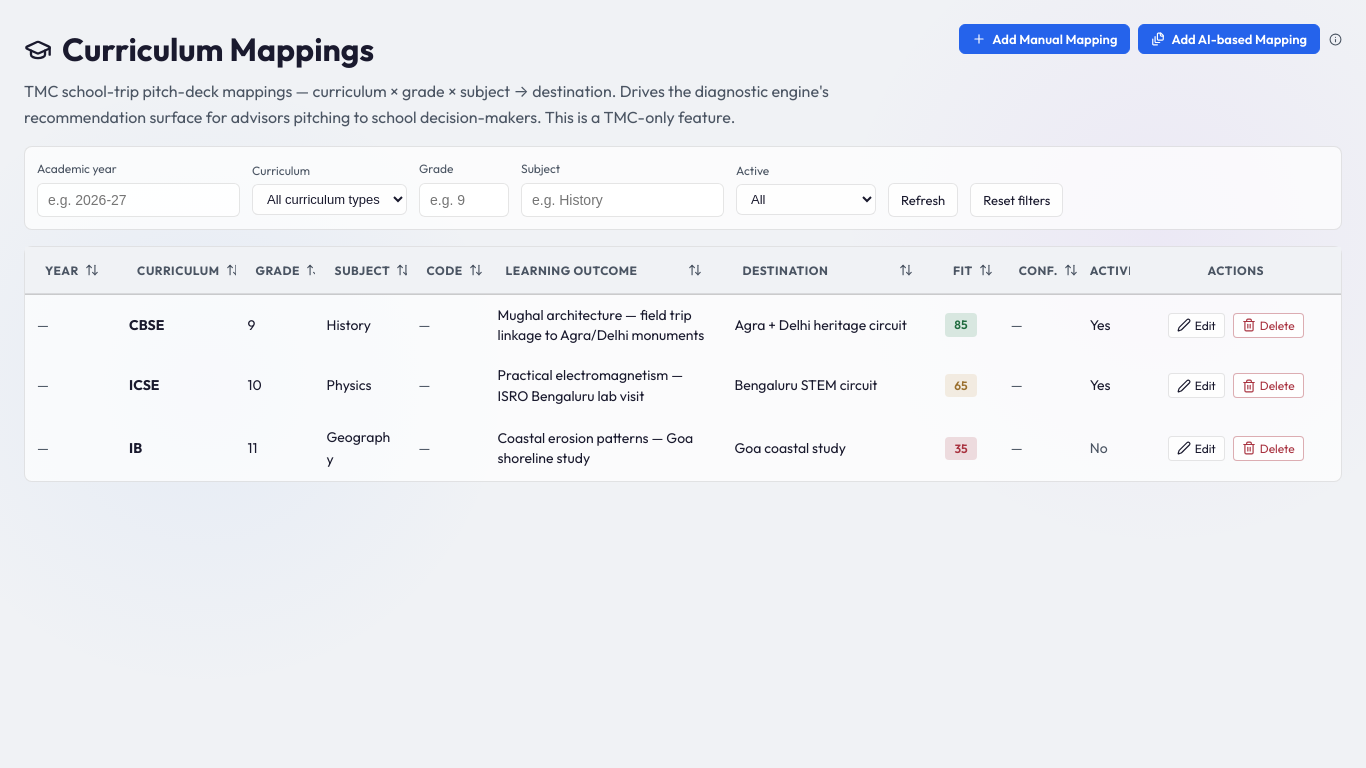
Test: <CurriculumAdmin /> — create modal › opens with all expected fields when "New Mapping" is clicked
The image size is (1366, 768).
Click the button with test id "curriculum-mapping-new": (1045, 39) [959,24,1130,54]
(page scrolled)
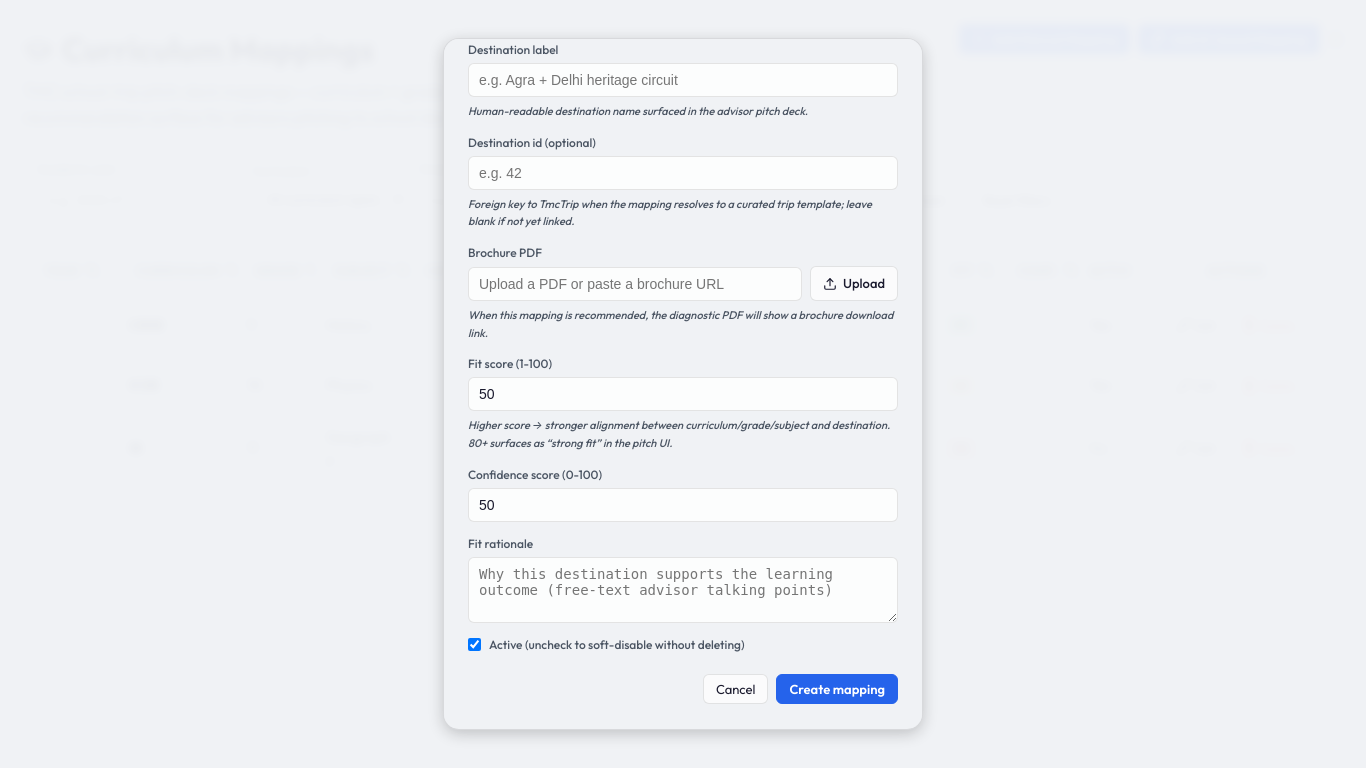
Check: the field with test id "curriculum-form-destination-label" is shown, box [468,63,898,97]
Check: the number field with test id "curriculum-form-destination-id" is shown, box [468,156,898,190]
Check: the number field with test id "curriculum-form-fit-score" is shown, box [468,377,898,411]
